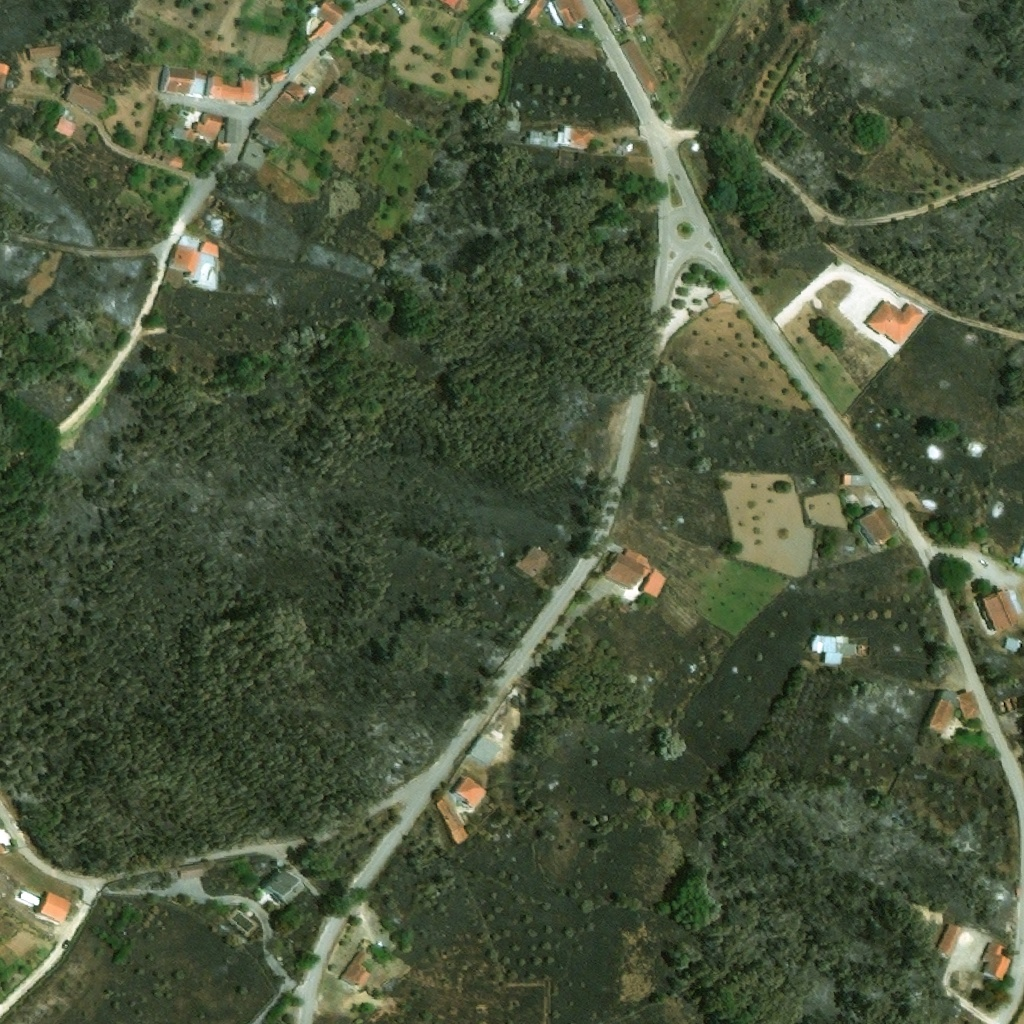0 no-damage: (604, 547, 668, 598), (863, 298, 925, 348), (924, 689, 982, 737), (620, 38, 663, 98), (337, 936, 378, 992), (433, 792, 472, 846), (61, 76, 111, 118), (160, 243, 202, 290), (306, 0, 349, 44), (259, 865, 304, 906), (856, 506, 899, 548), (521, 126, 597, 149), (205, 73, 259, 105), (977, 591, 1018, 631), (513, 546, 552, 584), (160, 64, 207, 95), (323, 79, 364, 114), (606, 0, 647, 33), (978, 940, 1010, 982), (35, 889, 74, 923), (466, 732, 501, 768), (51, 113, 91, 144), (250, 117, 286, 150), (453, 776, 487, 810), (193, 111, 224, 146), (933, 922, 962, 959), (238, 137, 266, 172), (276, 81, 309, 109), (150, 148, 187, 171), (217, 117, 242, 151), (305, 3, 324, 37), (177, 860, 205, 880), (27, 45, 62, 61), (268, 66, 292, 85), (1008, 587, 1023, 616), (703, 290, 723, 308), (1000, 636, 1021, 653), (19, 890, 40, 905), (0, 62, 11, 89), (170, 126, 194, 138), (166, 113, 186, 127), (616, 140, 634, 155), (177, 104, 192, 116), (321, 49, 334, 62), (839, 473, 851, 485), (687, 309, 700, 320), (845, 494, 856, 505), (599, 146, 608, 153), (309, 85, 316, 93)
2 major-damage: (808, 631, 862, 671), (998, 694, 1023, 718)
3 destroyed: (965, 440, 986, 461), (210, 198, 226, 214), (965, 330, 981, 344), (506, 120, 521, 132)
4 un-classified: (700, 131, 735, 167), (552, 0, 590, 29), (518, 0, 548, 27), (439, 0, 473, 16), (545, 0, 563, 24), (1013, 544, 1023, 573), (383, 12, 400, 29), (6, 128, 22, 144), (392, 0, 406, 16), (39, 68, 50, 82), (0, 843, 8, 854), (664, 118, 671, 124), (578, 23, 584, 29)
